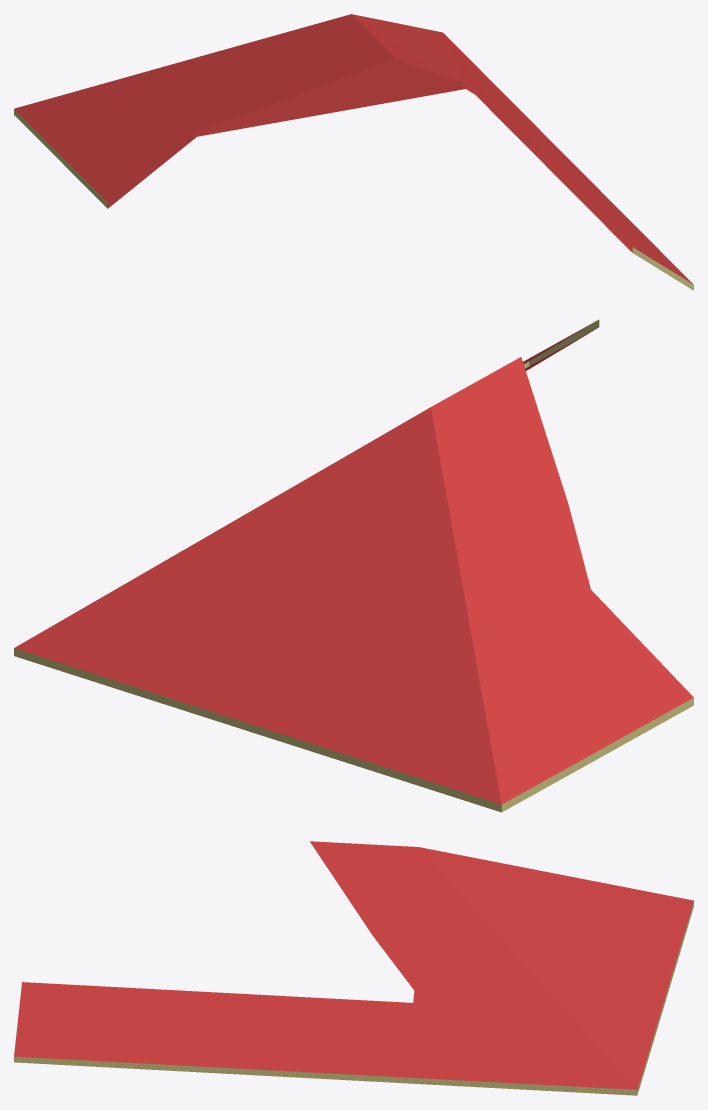
3 views of the same model, one above another, from view 1: azimuth 30°, elevation 25°; view 2: azimuth 150°, elevation 25°; view 3: azimuth 270°, elevation 25° (orthographic). The views are drawn at different scales.
Bounding box in the file's own units: 7.37 × 10.5 × 2.59.
